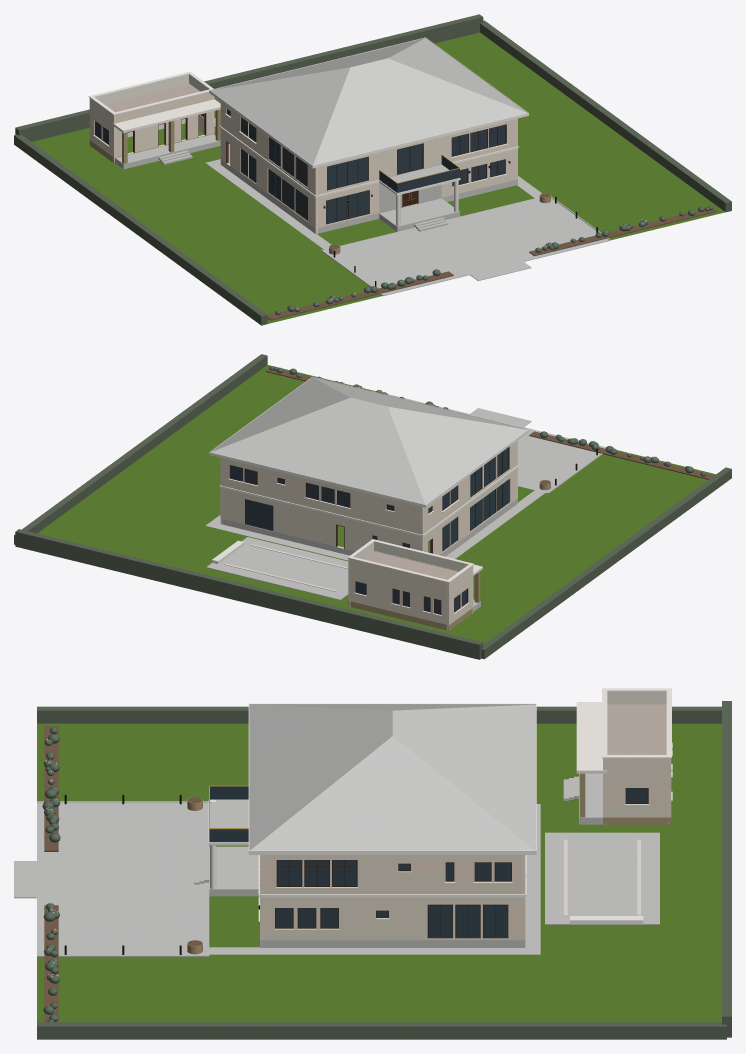
File: est_S2.glb
3 renders of one model, top to bottom at view 1: azimuth 30°, elevation 25°; view 2: azimuth 150°, elevation 25°; view 3: azimuth 270°, elevation 25°, orthographic. The views are drawn at different scales.
Parts seen in each view (by area): view 1: GR_est_S2, GD_est_S2; view 2: GR_est_S2, GD_est_S2; view 3: GR_est_S2, GD_est_S2.
Boxes of the visible parts, bbox=[...] form: GR_est_S2: bbox=[14, 14, 731, 325]; GD_est_S2: bbox=[89, 105, 713, 314]; GR_est_S2: bbox=[14, 354, 731, 659]; GD_est_S2: bbox=[211, 366, 706, 616]; GR_est_S2: bbox=[14, 688, 731, 1039]; GD_est_S2: bbox=[42, 727, 672, 1022].
Size of the model in its own units: 52.7 by 13.45 by 49.95.
7 materials, 2 textured.
